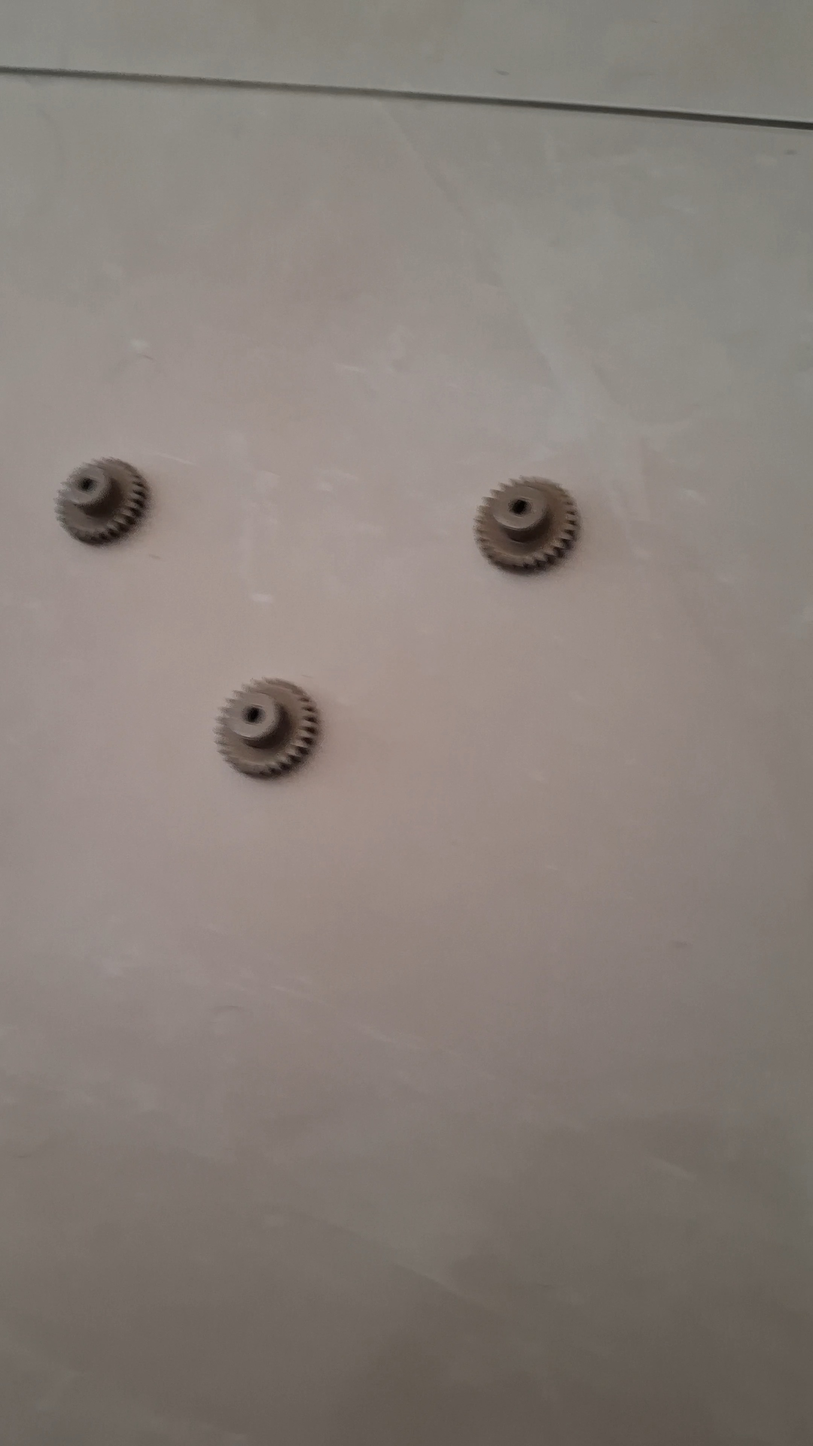spur gear: (216, 679, 318, 776), (475, 478, 579, 570), (56, 459, 148, 544)
